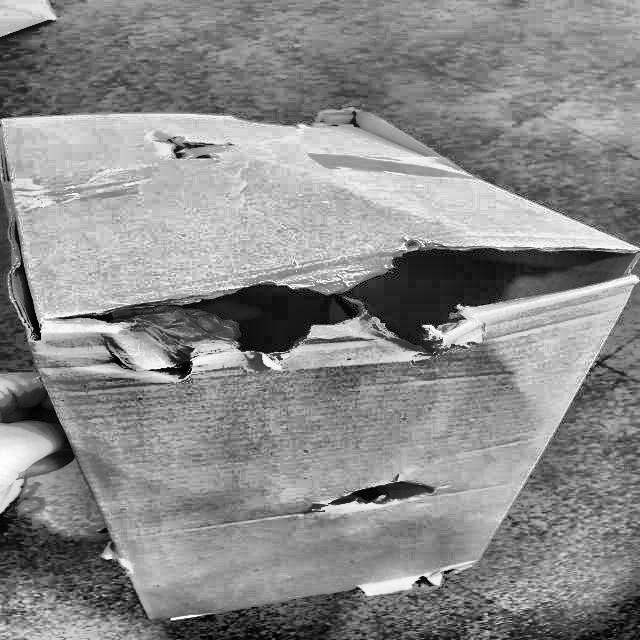box: (0, 94, 639, 639)
hole: (46, 237, 624, 389), (305, 473, 437, 509), (163, 131, 239, 170)
